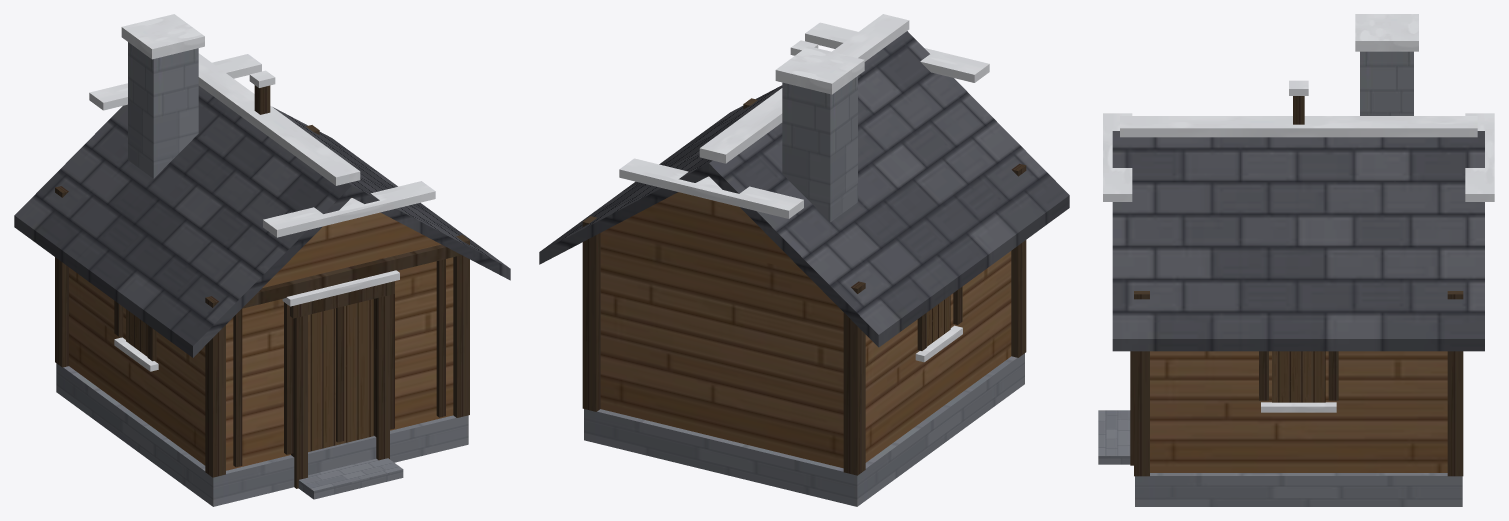
Rendered from ae_snow_wood_small_hut_lod0.glb.
The picture shows the model from 3 angles, left to right: view 1: azimuth 30°, elevation 25°; view 2: azimuth 150°, elevation 25°; view 3: azimuth 270°, elevation 25°; orthographic projection. The views are drawn at different scales.
Parts seen in each view (by area): view 1: ae_snow_wood_small_hut_lod0; view 2: ae_snow_wood_small_hut_lod0; view 3: ae_snow_wood_small_hut_lod0.
Part boxes in pixels (x1,y1,x2,y2): ae_snow_wood_small_hut_lod0: [14, 14, 510, 506]; ae_snow_wood_small_hut_lod0: [539, 14, 1069, 506]; ae_snow_wood_small_hut_lod0: [1098, 14, 1494, 506].
Size of the model in its own units: 3.9 by 4.34 by 4.04.
1 material, 1 textured.
